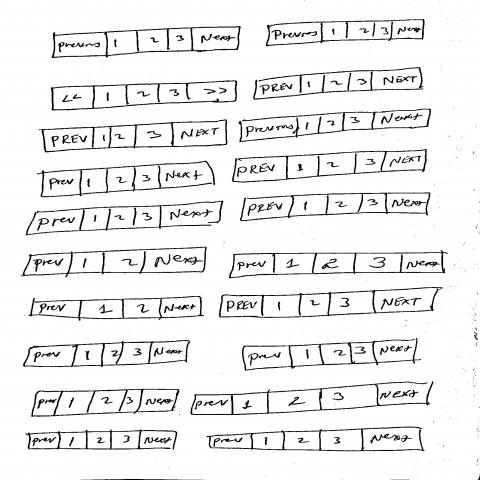Pagination: (190, 381, 435, 417), (218, 287, 441, 319), (238, 108, 433, 144), (26, 201, 225, 236), (231, 149, 428, 184), (40, 161, 216, 199), (51, 26, 242, 60), (41, 120, 229, 154), (50, 81, 239, 113), (228, 252, 447, 279), (209, 427, 426, 454), (21, 247, 209, 278), (253, 67, 424, 101), (240, 193, 432, 223), (241, 339, 419, 371), (22, 340, 191, 368), (265, 19, 425, 48), (31, 389, 180, 418), (29, 296, 204, 320), (27, 430, 179, 452)
